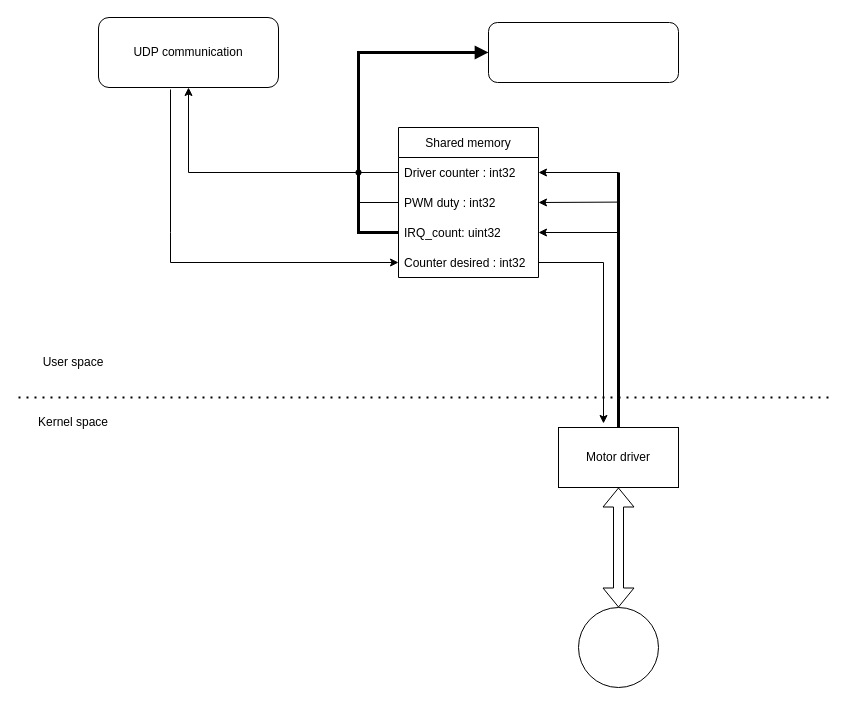
Some shapes in this 847 by 705 pixel diagram are drawn without their labels. Here are the shapes that lost their labels. From the top down, the centre of each, then its label:
At (583,52): "Web server".
At (618,647): "Motor".
